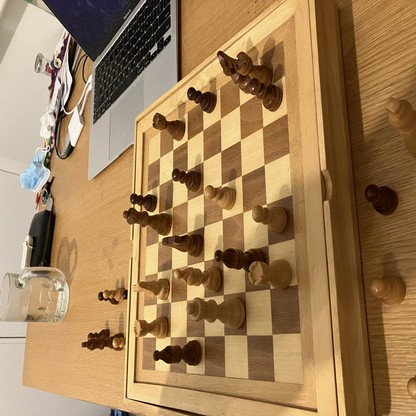bishop_black: (153, 340, 202, 366), (215, 247, 264, 271)
king_black: (82, 332, 123, 352)
knight_black: (218, 51, 251, 95), (162, 234, 203, 256)
knight_white: (132, 279, 170, 301)
pawn_black: (365, 185, 398, 216), (249, 80, 283, 110), (188, 87, 216, 113), (172, 170, 201, 191), (130, 193, 158, 212)
pawn_white: (369, 276, 407, 307), (252, 206, 287, 233), (203, 186, 236, 210), (104, 289, 123, 302)
queen_black: (123, 210, 171, 236)
queen_white: (186, 296, 244, 330), (174, 267, 223, 292)
rock_black: (236, 54, 273, 84), (152, 113, 185, 140)
rock_white: (250, 259, 293, 290), (134, 318, 170, 339)
